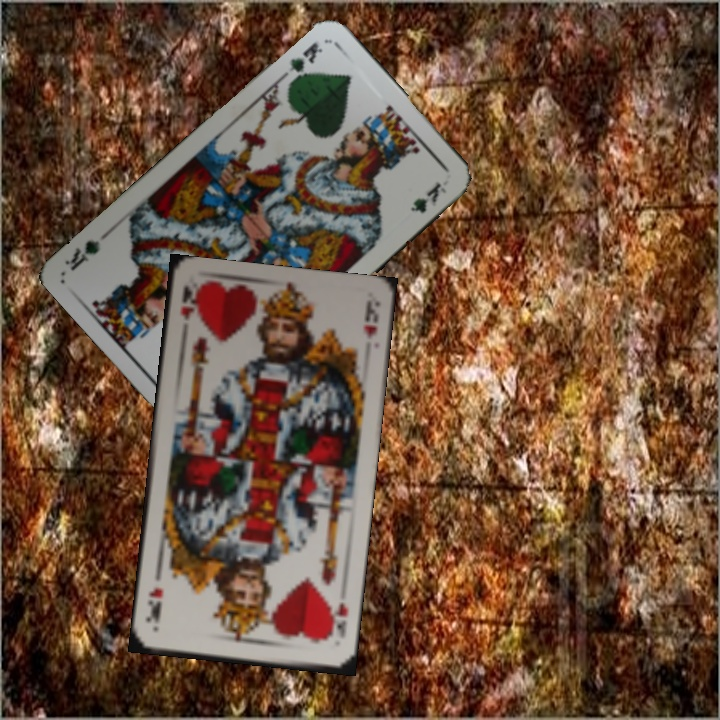GK: (278, 38, 326, 86)
HK: (323, 597, 350, 643), (177, 281, 201, 323)
